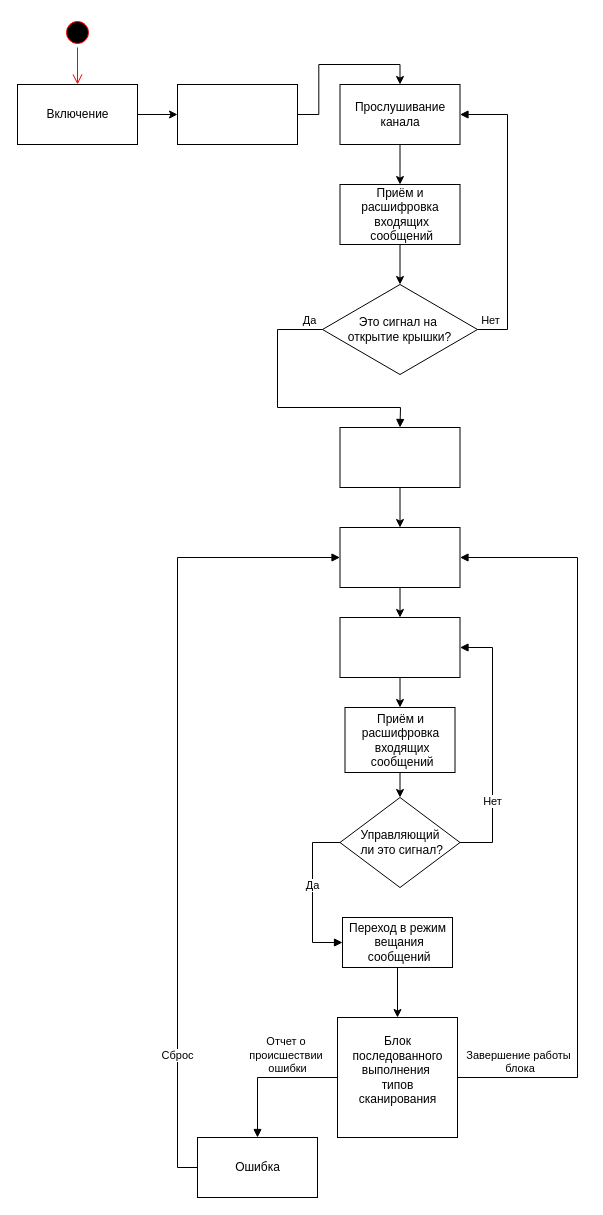
Some shapes in this 603 by 1215 pixel diagram are drawn without their labels. Here are the shapes that lost their labels. From the top down, the centre of each, then its label:
point 237,114: Инициализация
point 399,457: Открыть крышку
point 399,557: Установка начального положения (0 °, 0 °)
point 399,647: Прослушивание радиоканала
